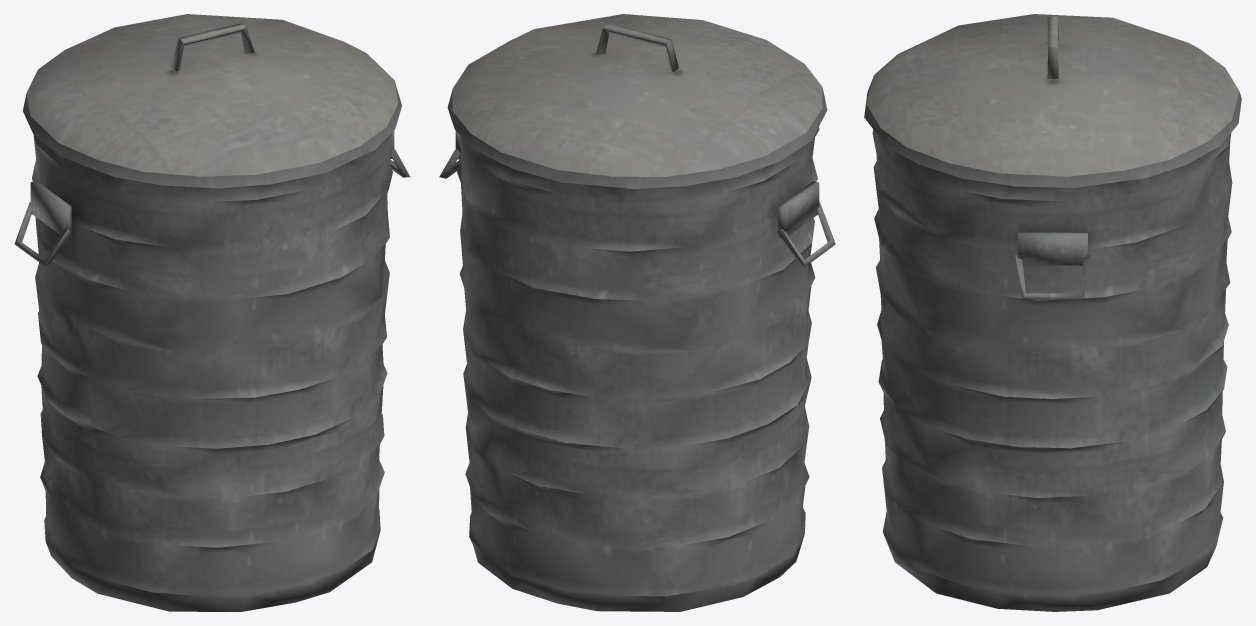
Rendered from garage_trash_can-low.glb.
3 renders of one model, left to right at view 1: azimuth 30°, elevation 25°; view 2: azimuth 150°, elevation 25°; view 3: azimuth 270°, elevation 25°, orthographic.
Parts seen in each view (by area): view 1: trash_can-low; view 2: trash_can-low; view 3: trash_can-low.
Part boxes in pixels (x1,y1,x2,y2): trash_can-low: [14, 14, 410, 611]; trash_can-low: [439, 14, 835, 611]; trash_can-low: [864, 14, 1241, 611].
Size of the model in its own units: 0.5946 by 0.7946 by 0.5307.
1 material, 1 textured.
